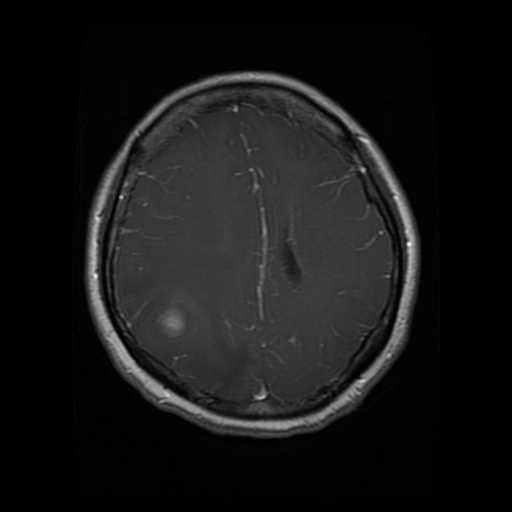glioma: (157, 306, 191, 337)
